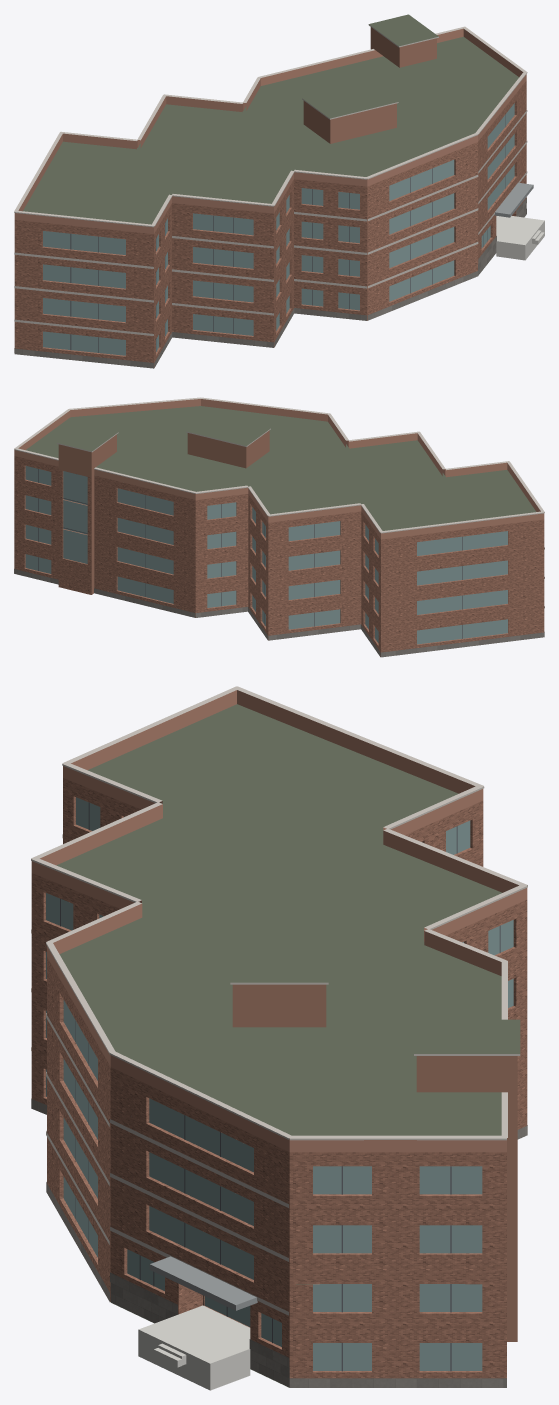
3 renders of one model, top to bottom at view 1: azimuth 30°, elevation 25°; view 2: azimuth 150°, elevation 25°; view 3: azimuth 270°, elevation 25°, orthographic. The views are drawn at different scales.
Visible parts, largest first — view 1: b50__wall, b50__roof, b50__glass, b50__trim, b50__parapet, b50__wall2, b50__base, b50__entranceStair, b50__frame, b50__canopy; view 2: b50__wall, b50__roof, b50__glass, b50__parapet, b50__wall2, b50__trim, b50__base, b50__frame; view 3: b50__roof, b50__wall, b50__glass, b50__parapet, b50__trim, b50__wall2, b50__entranceStair, b50__base, b50__canopy, b50__frame.
Part boxes in pixels (box(x1,y1,x2,y2)): b50__wall: box(14, 81, 526, 367); b50__roof: box(23, 14, 518, 275); b50__glass: box(43, 103, 514, 355); b50__trim: box(14, 24, 527, 335); b50__parapet: box(14, 28, 526, 234); b50__wall2: box(303, 27, 436, 143); b50__base: box(14, 198, 526, 368); b50__entranceStair: box(496, 216, 544, 260); b50__frame: box(70, 114, 505, 352); b50__canopy: box(494, 182, 533, 217); b50__wall: box(14, 456, 544, 656); b50__roof: box(26, 406, 536, 530); b50__glass: box(25, 466, 507, 644); b50__parapet: box(14, 399, 544, 539); b50__wall2: box(58, 430, 269, 594); b50__trim: box(14, 397, 544, 608); b50__base: box(14, 569, 544, 657); b50__frame: box(38, 469, 462, 638); b50__roof: box(56, 704, 520, 1387); b50__wall: box(31, 778, 527, 1378); b50__glass: box(46, 797, 513, 1370); b50__parapet: box(31, 690, 527, 1152); b50__trim: box(31, 686, 527, 1315); b50__wall2: box(232, 984, 517, 1341); b50__entranceStair: box(138, 1305, 250, 1390); b50__base: box(31, 1098, 527, 1387); b50__canopy: box(149, 1256, 257, 1310); b50__frame: box(60, 802, 500, 1371).
Bounding box in the file's own units: 59.31 × 18.07 × 27.55.
11 materials, 2 textured.
